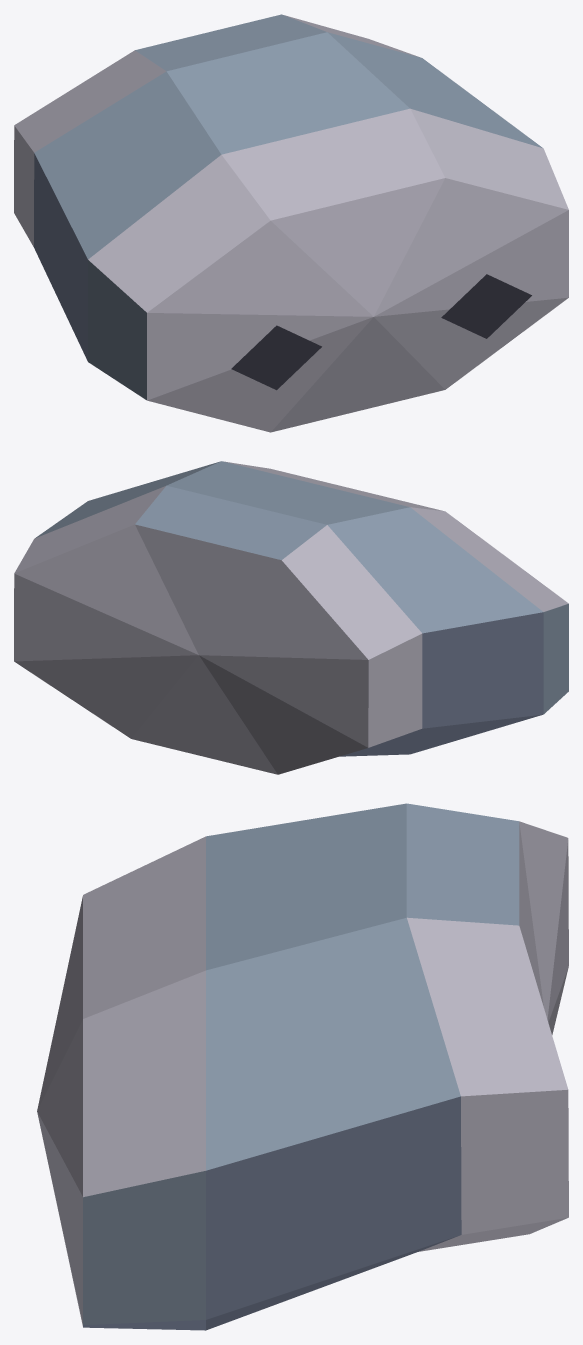
Rendered from nose_fb_bovine.glb.
3 views of the same model, one above another, from view 1: azimuth 30°, elevation 25°; view 2: azimuth 150°, elevation 25°; view 3: azimuth 270°, elevation 25° (orthographic). The views are drawn at different scales.
Parts seen in each view (by area): view 1: Snout; view 2: Snout; view 3: Snout.
Part boxes in pixels (box(x1,y1,x2,y2)): Snout: box(14, 14, 568, 432); Snout: box(14, 461, 568, 774); Snout: box(37, 803, 568, 1330).
Bounding box in the file's own units: 0.0499 × 0.0291 × 0.0361.
1 material, 1 textured.
